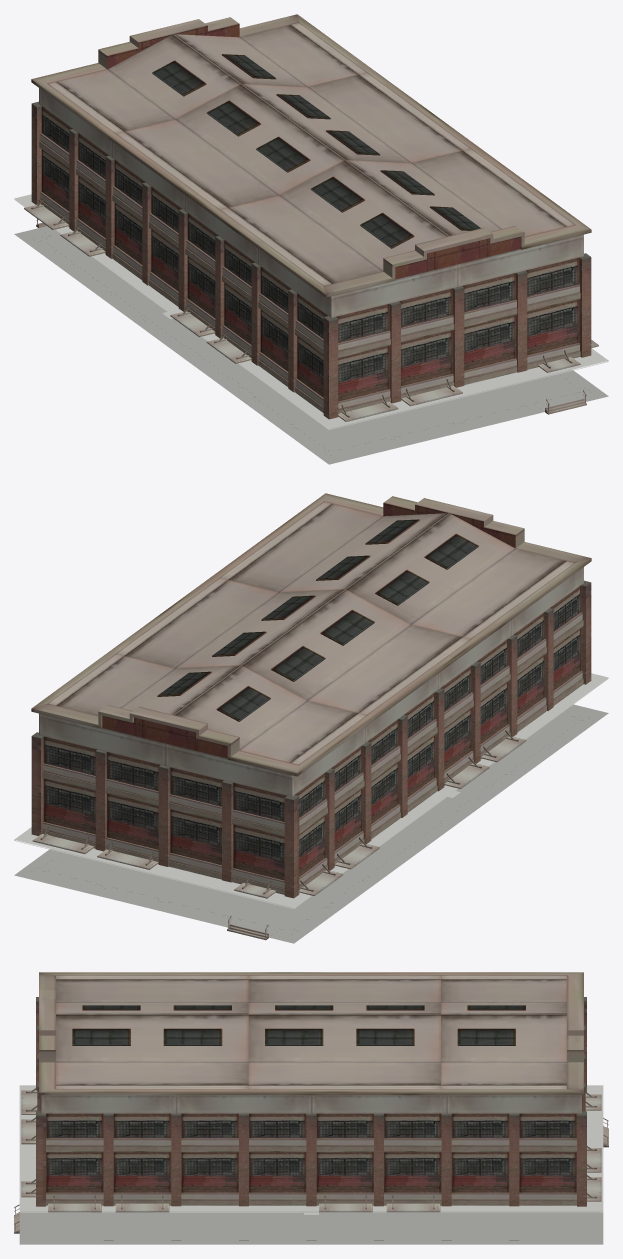
The model's file is ind-building-10.zfix-v14.lod1.glb.
The picture shows the model from 3 angles, top to bottom: view 1: azimuth 30°, elevation 25°; view 2: azimuth 150°, elevation 25°; view 3: azimuth 270°, elevation 25°; orthographic projection. The views are drawn at different scales.
Visible parts, largest first — view 1: Industrial_Building_10_Material #2_0, Walkable floors and stairs (×2); view 2: Industrial_Building_10_Material #2_0, Walkable floors and stairs (×2); view 3: Industrial_Building_10_Material #2_0, Walkable floors and stairs (×2).
Boxes of the visible parts, box(x1,y1,x2,y2) form: Industrial_Building_10_Material #2_0: box(24, 14, 598, 443); Walkable floors and stairs (×2): box(14, 194, 608, 464); Industrial_Building_10_Material #2_0: box(31, 493, 591, 940); Walkable floors and stairs (×2): box(14, 673, 608, 943); Industrial_Building_10_Material #2_0: box(14, 972, 608, 1240); Walkable floors and stairs (×2): box(19, 1085, 603, 1244).
Bounding box in the file's own units: 43.5 × 25.82 × 83.27.
3 materials, 1 textured.
